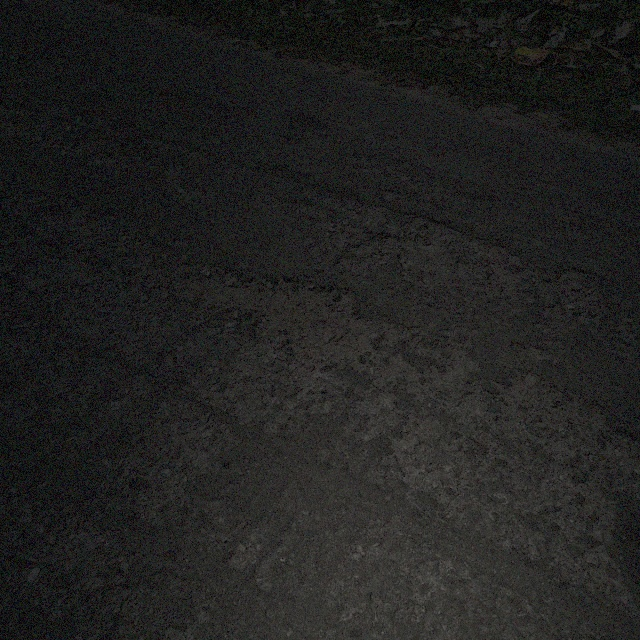pothole: (163, 262, 377, 358), (352, 204, 531, 288), (549, 268, 607, 324)
